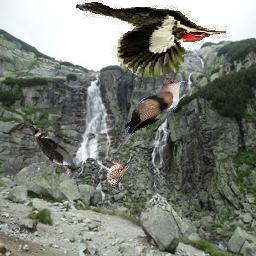Cuckoo: (113, 80, 189, 159), (22, 116, 80, 172)
Sparrow: (107, 154, 134, 186)
Woodpecker: (77, 1, 228, 78)
